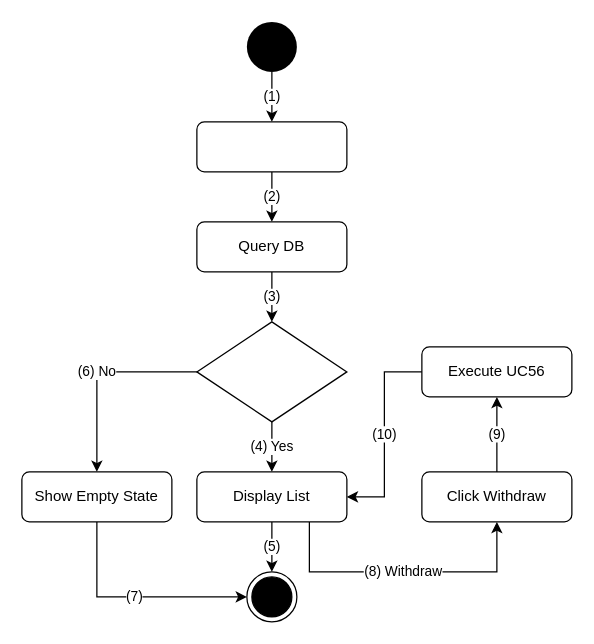
Image size: 594x644. Some labels were removed from this diagram. The box of each missing label's shape, as (x1, y1, x2, y2) in pixels:
Click Menu: (196, 121, 347, 172)
Is Found: (196, 321, 347, 422)
